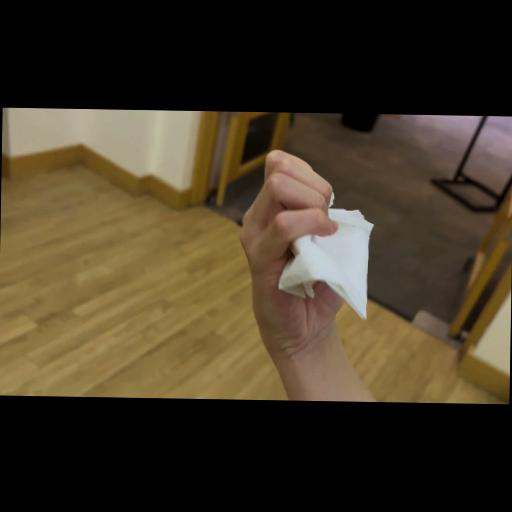napkin: (276, 182, 376, 320)
